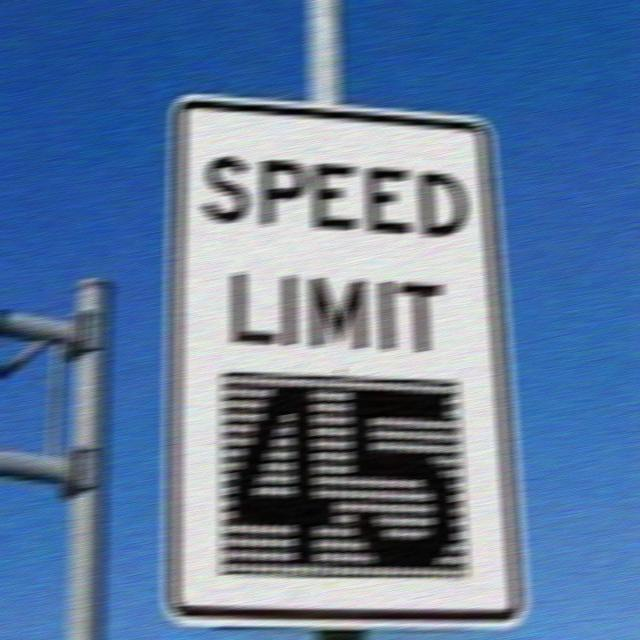speedLimit45: (172, 87, 519, 619)
